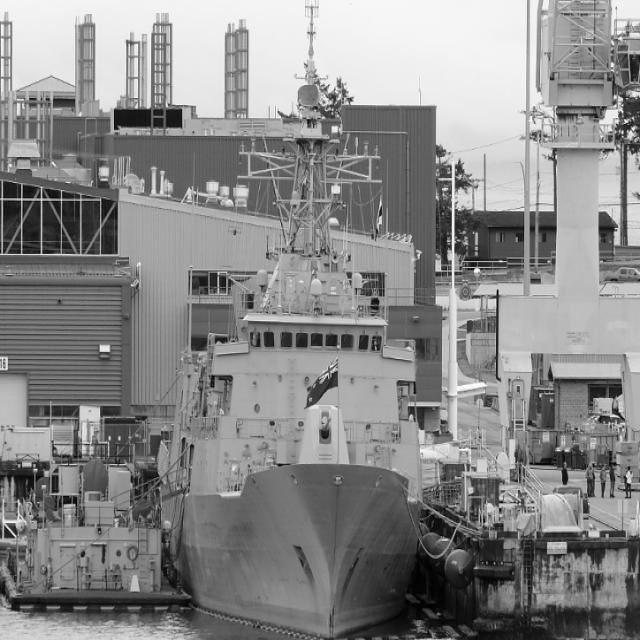Fragata: (168, 1, 430, 640)
